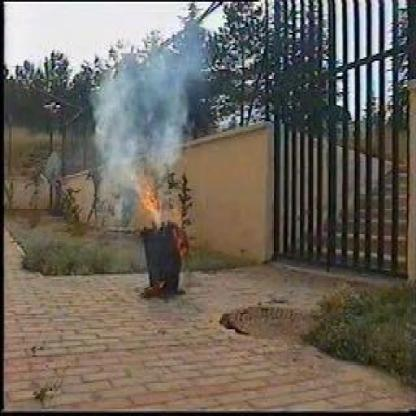-: (85, 36, 205, 158)
